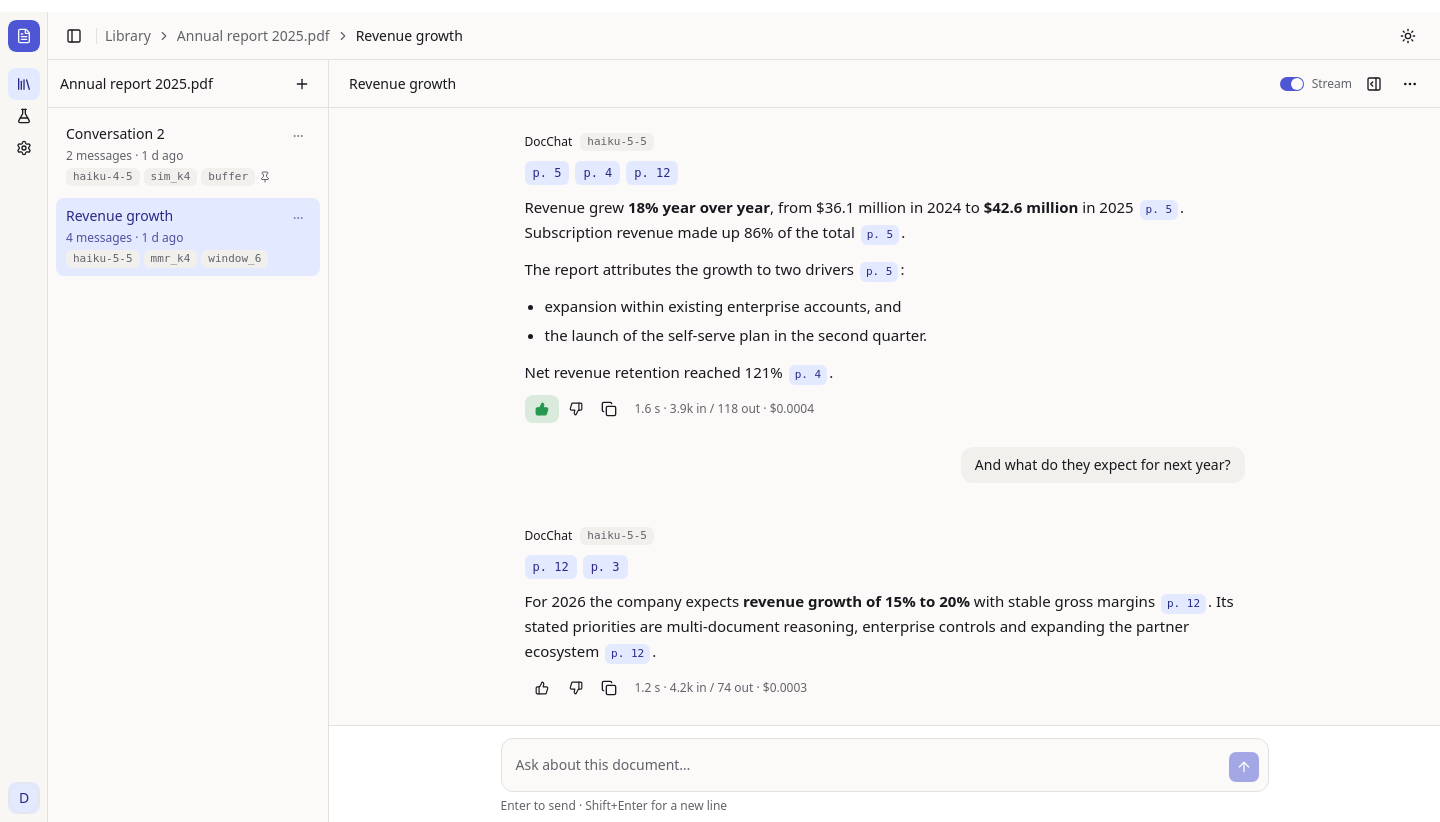
streaming › streams an answer and announces start and completion
(page scrolled)
Expected: the element named "Messages" is shown, [500, 108, 1268, 725]
Type "What are the main risks?" into the text box labelled "Ask about this document" at [864, 765], box [510, 747, 1220, 783]
Then press Enter
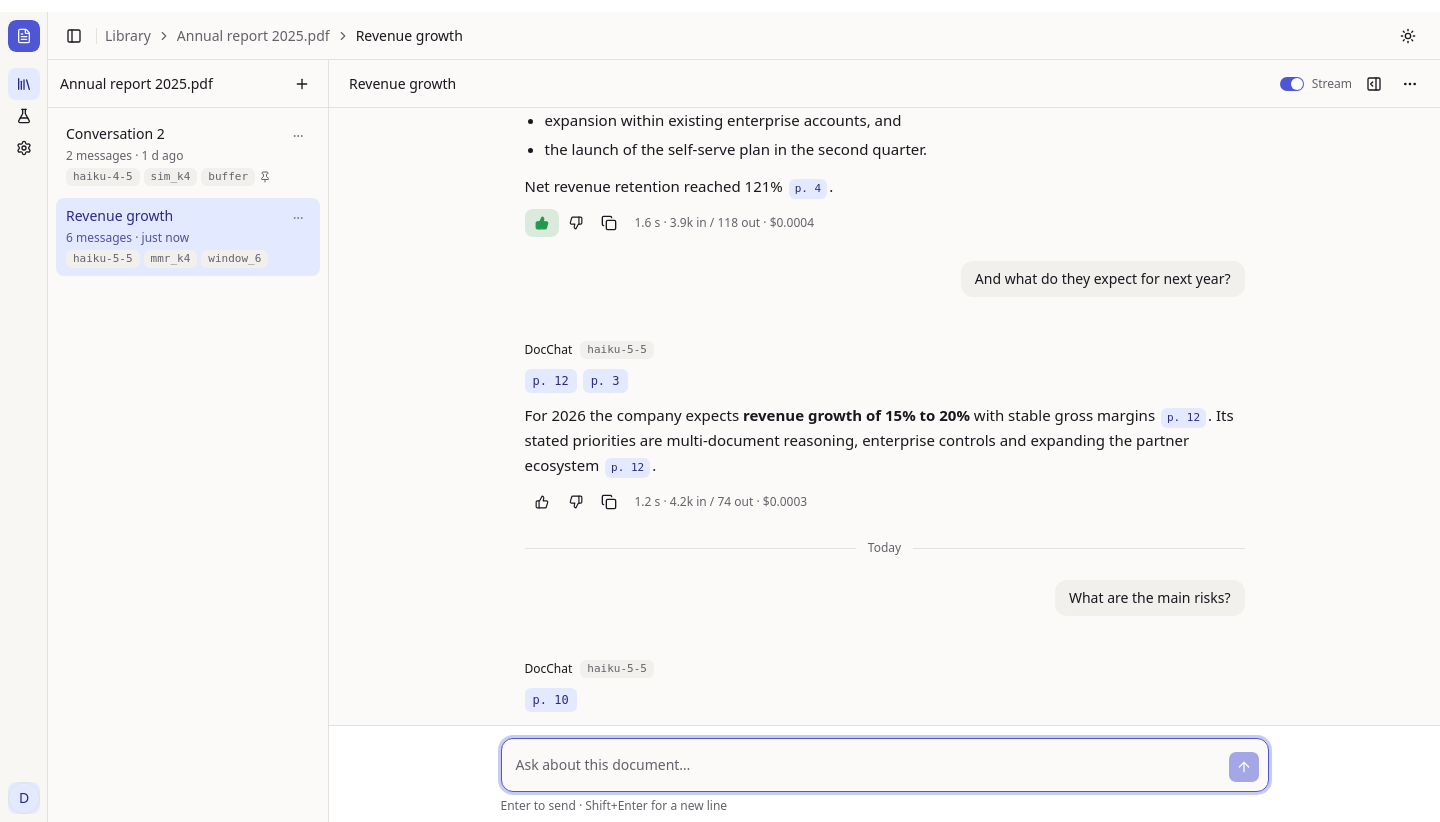
Expected: the number of elements named "DocChat answer" is 3
